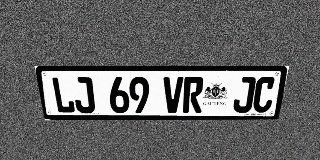6: (108, 77, 130, 113)
9: (129, 77, 149, 113)
C: (252, 77, 277, 112)
J: (72, 77, 96, 113), (232, 77, 256, 113)
L: (51, 77, 76, 113)
R: (183, 77, 204, 113)
V: (163, 77, 183, 113)
